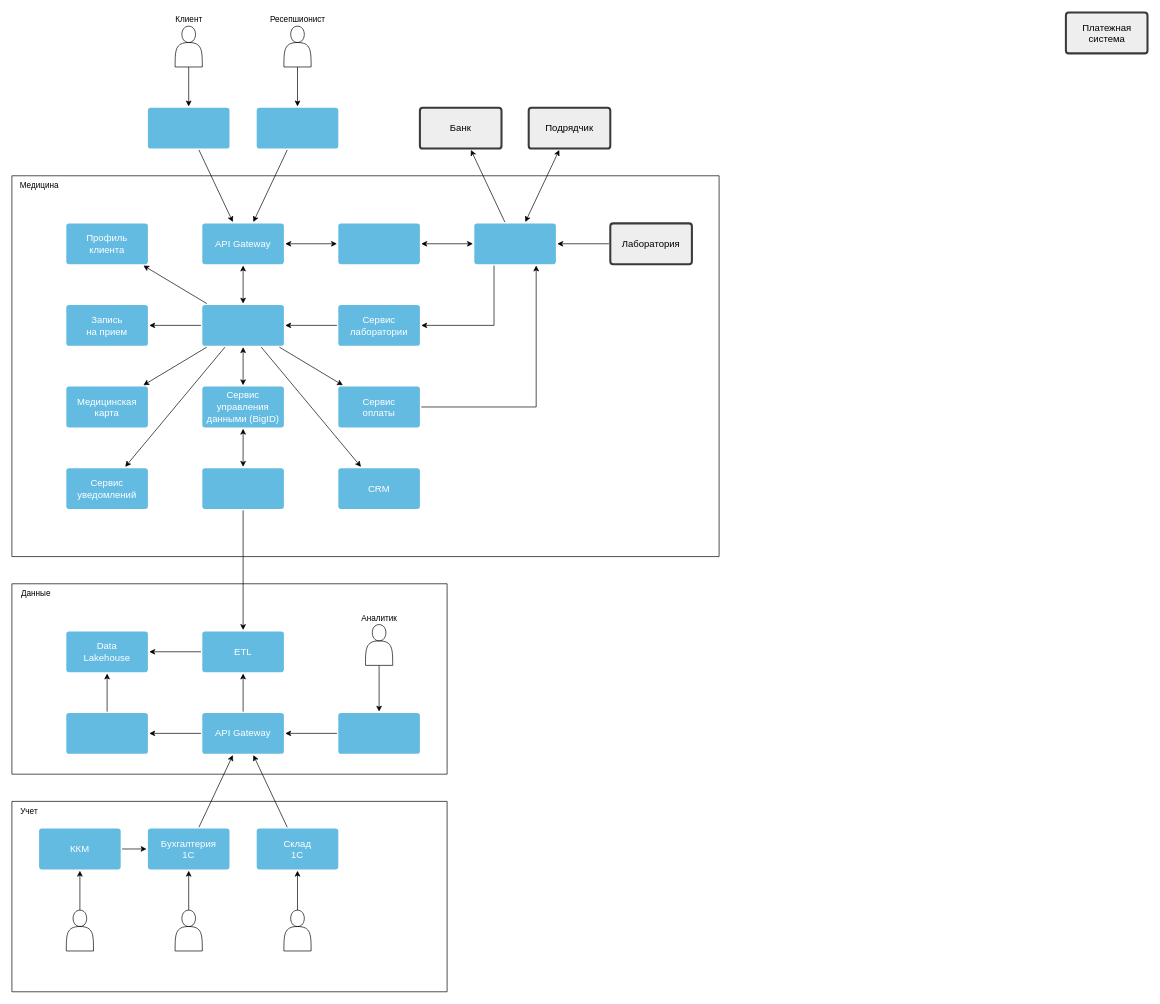
This 1160x1004 diagram has some shape labels left out. Each missing label, with the centre of its shape:
"Auth (keycloak)" goes at pixel 379 243.
"B2B API Gateway" goes at pixel 515 243.
"Бухгалтер" goes at pixel 188 930.
"Кассир" goes at pixel 80 930.
"Мониторинг безопасности и алертинг" goes at pixel 243 488.
"Очередь сообщений" goes at pixel 243 325.
"Портал для клиентов" goes at pixel 188 127.
"Портал для сотрудников" goes at pixel 297 127.
"Приложение для аналитиков" goes at pixel 379 733.
"Сервис BI/ML" goes at pixel 107 733.
"Товаровед" goes at pixel 297 930.
